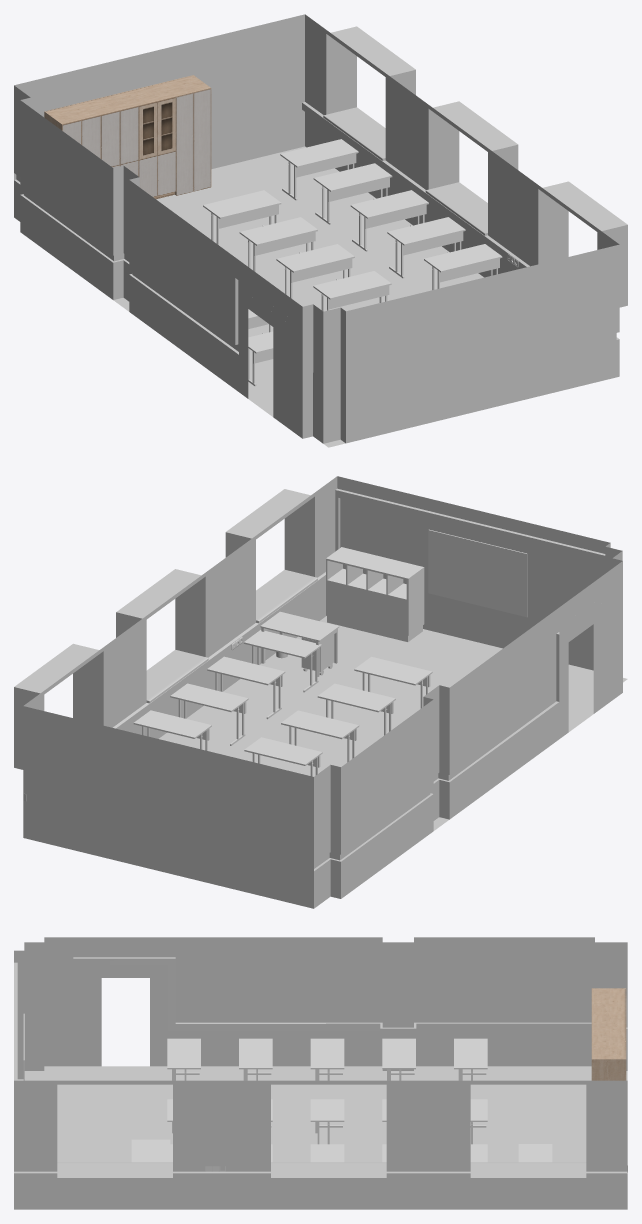
3 views of the same model, one above another, from view 1: azimuth 30°, elevation 25°; view 2: azimuth 150°, elevation 25°; view 3: azimuth 270°, elevation 25° (orthographic). The views are drawn at different scales.
Visible parts, largest first — view 1: Plane, Cube.002, Cube.007, Cube.004; view 2: Plane, Cube.002, Cube.001, Plane.002, Cube.005, Cube.006; view 3: Plane, Cube.002, Cube.007, Cube.005, Cube.004.
Boxes of the visible parts, box(x1,y1,x2,y2) form: Plane: box(14, 14, 627, 447); Cube.002: box(203, 163, 502, 386); Cube.007: box(44, 75, 211, 199); Cube.004: box(280, 139, 358, 200); Plane: box(14, 476, 627, 908); Cube.002: box(133, 630, 432, 776); Cube.001: box(326, 547, 424, 641); Plane.002: box(428, 529, 527, 617); Cube.005: box(260, 611, 339, 676); Cube.006: box(301, 634, 334, 675); Plane: box(14, 937, 627, 1209); Cube.002: box(167, 1038, 487, 1162); Cube.007: box(591, 988, 626, 1080); Cube.005: box(131, 1139, 170, 1162); Cube.004: box(518, 1144, 552, 1162).
Bounding box in the file's own units: 9.6 × 3.66 × 15.75.
Materials: 8 (1 with a texture image).
